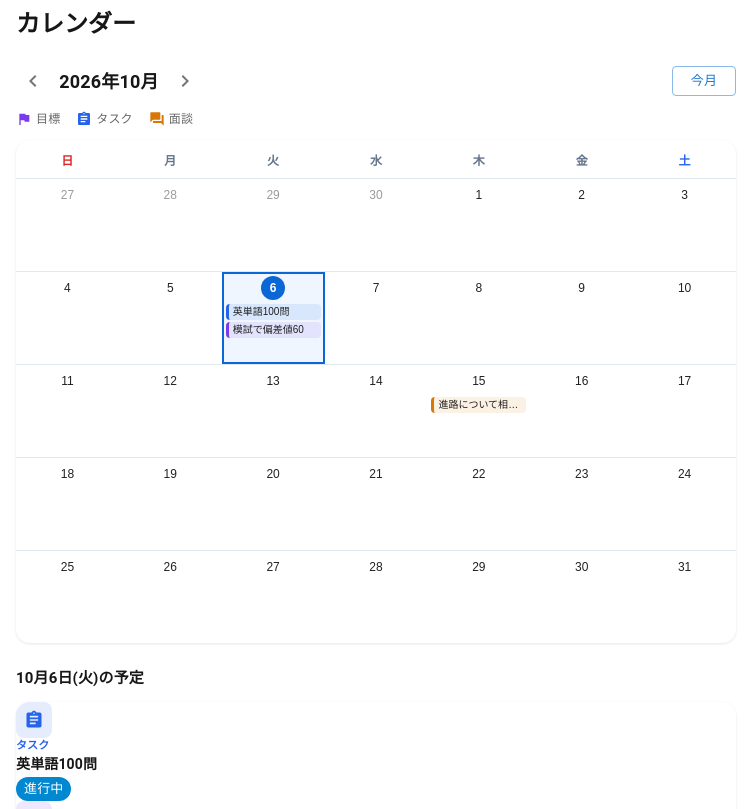
Test: CalendarPresenter › 予定の種別ラベルとステータスが表示される
Expected: the text "タスク" is shown, [16, 738, 49, 752]
Expected: the text "進行中" is shown, [24, 781, 64, 796]
Click the button with aria-label "10月15日 予定1件": (479, 411) [427, 365, 530, 457]
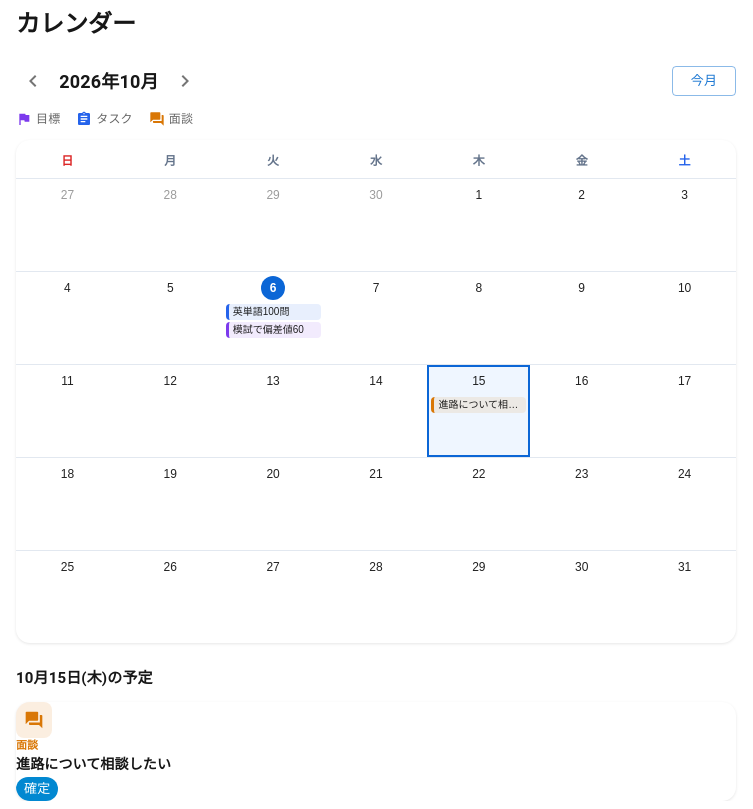
Result: the text "面談" is shown at [16, 738, 38, 752]
Result: the text "確定" is shown at [24, 781, 50, 796]
